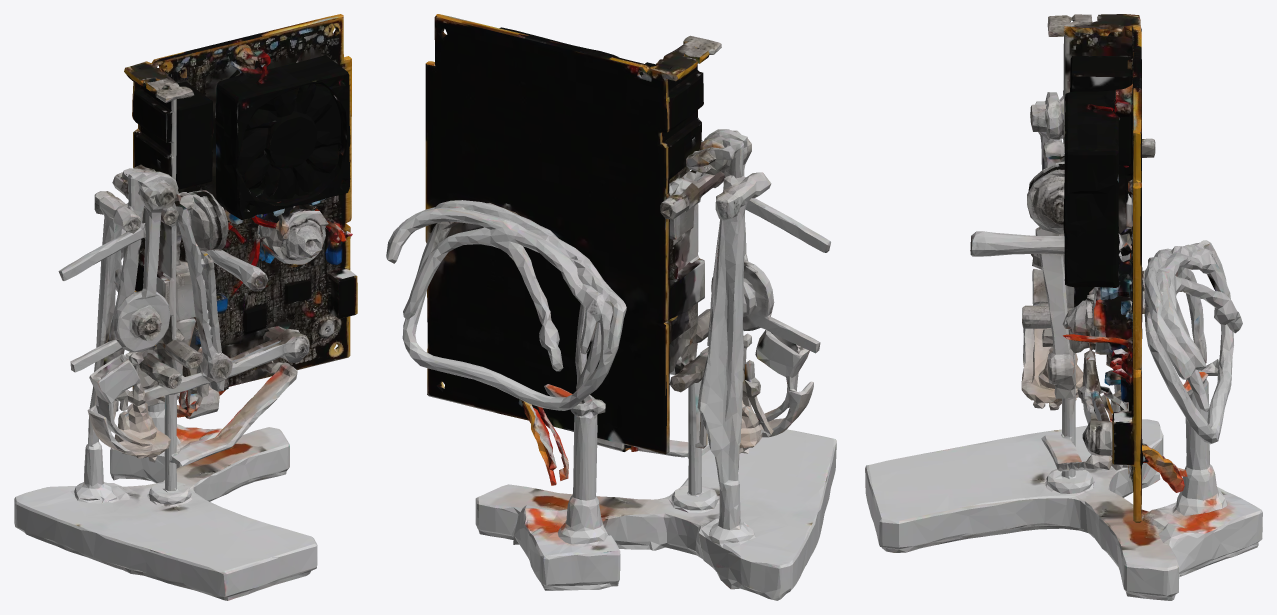
File: chest (2).glb
3 renders of one model, left to right at view 1: azimuth 30°, elevation 25°; view 2: azimuth 150°, elevation 25°; view 3: azimuth 270°, elevation 25°, orthographic. The views are drawn at different scales.
Parts seen in each view (by area): view 1: Hy21_Mesh.obj; view 2: Hy21_Mesh.obj; view 3: Hy21_Mesh.obj.
Part boxes in pixels (x1,y1,x2,y2): Hy21_Mesh.obj: [14, 14, 357, 600]; Hy21_Mesh.obj: [386, 14, 836, 600]; Hy21_Mesh.obj: [865, 14, 1262, 600].
Size of the model in its own units: 1.6 by 1.96 by 1.42.
Materials: 1 (1 with a texture image).
